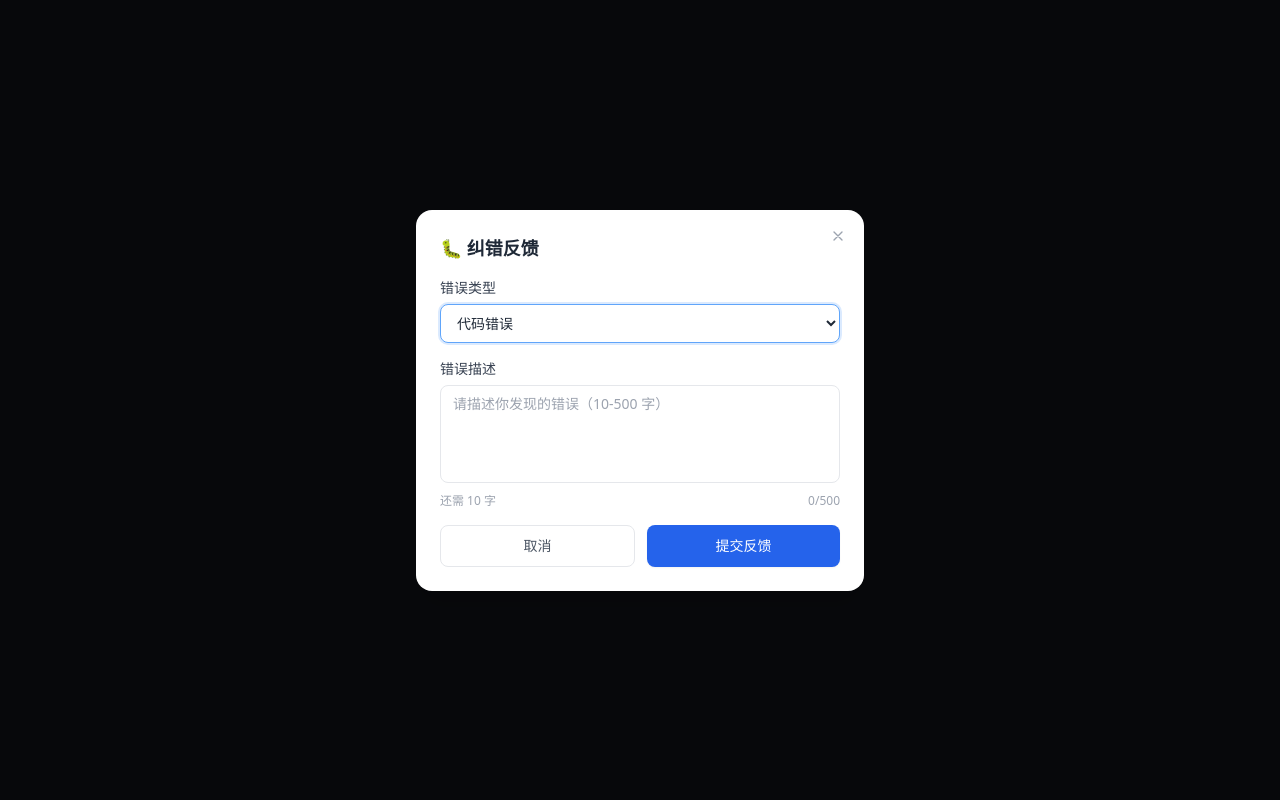
it: FeedbackModal › 描述不足 10 字时提交显示校验错误
Step 1. Type "太短了" into the text box labelled "错误描述" → (640, 434), box [440,384,840,482]
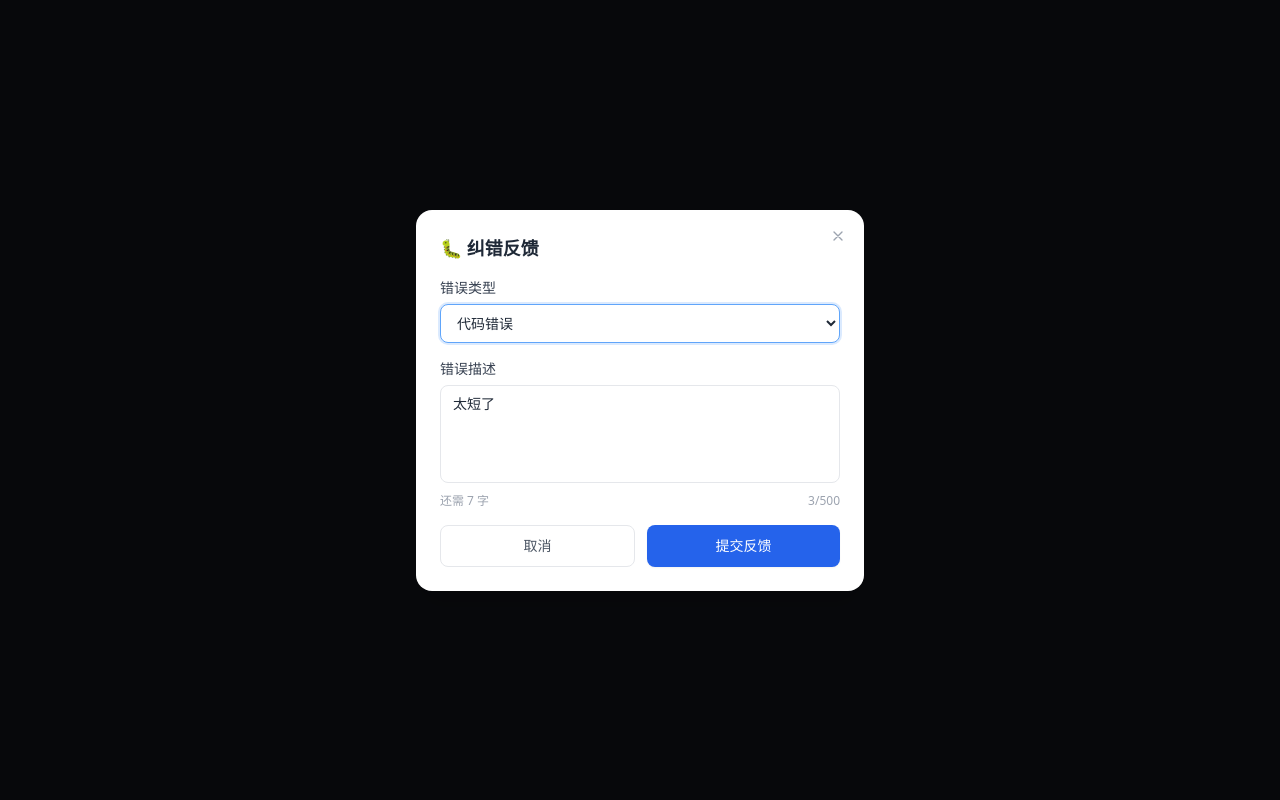
Step 2. Click the button "提交反馈" → (744, 546), box [647,524,840,566]
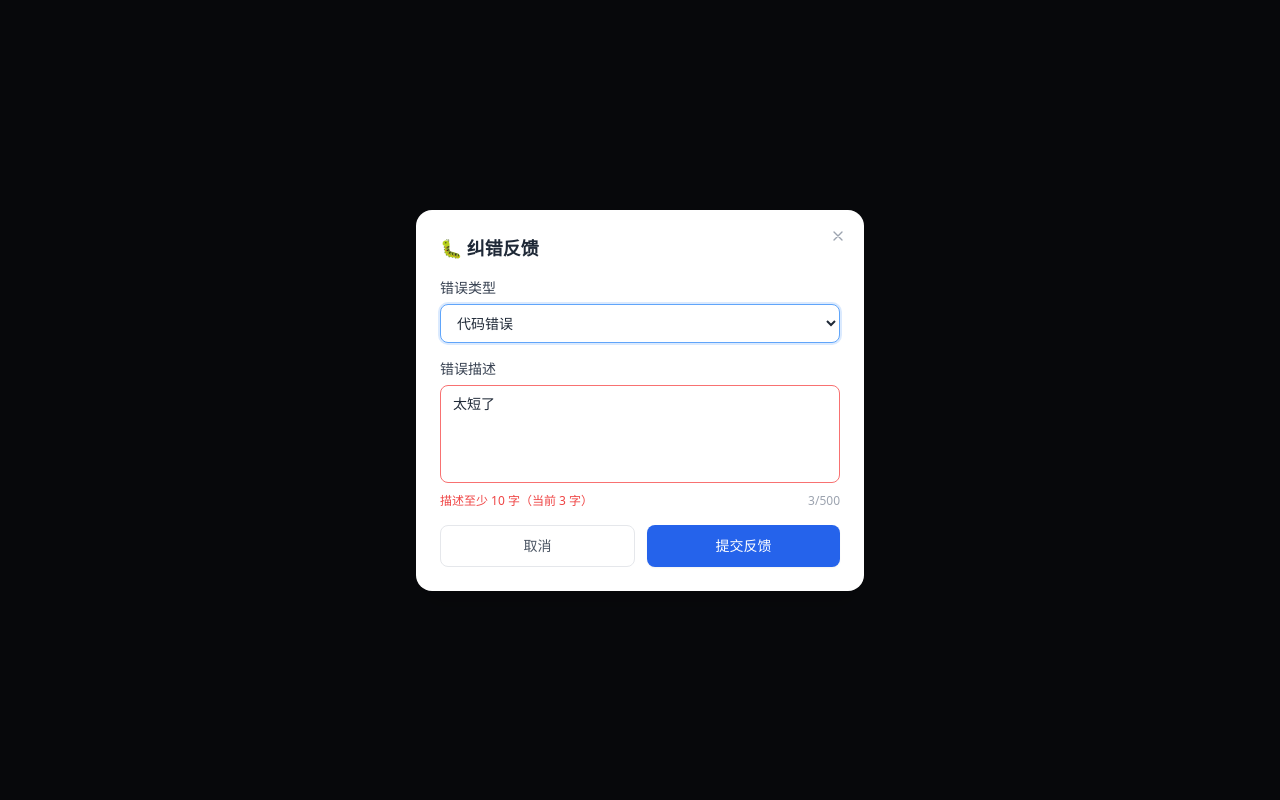
Now the text "描述至少 10 字（当前 3 字）" is shown, box [440,492,593,508]
